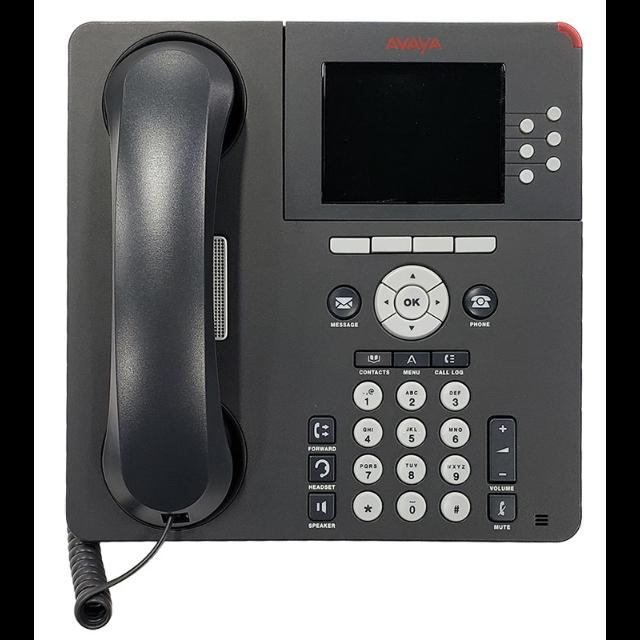Telephone-Set: (54, 5, 592, 615)
